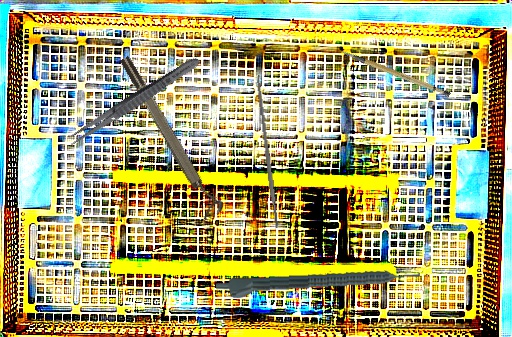Dressing Forceps: (65, 53, 203, 150)
Fixation Ring: (116, 50, 227, 221)
Handpiece: (215, 267, 421, 303)
Scalpel Handle: (340, 33, 452, 111), (254, 75, 280, 229)
